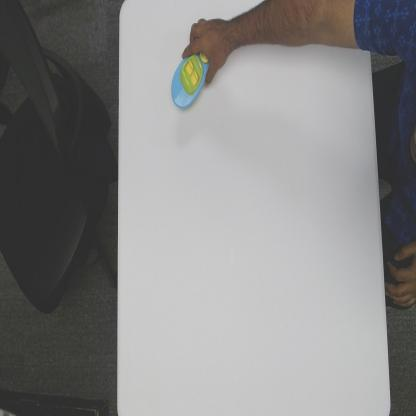Arm: (230, 0, 369, 54)
Boat: (170, 52, 207, 110)
Hand: (182, 15, 232, 87)
